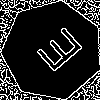E: (27, 25, 85, 81)
